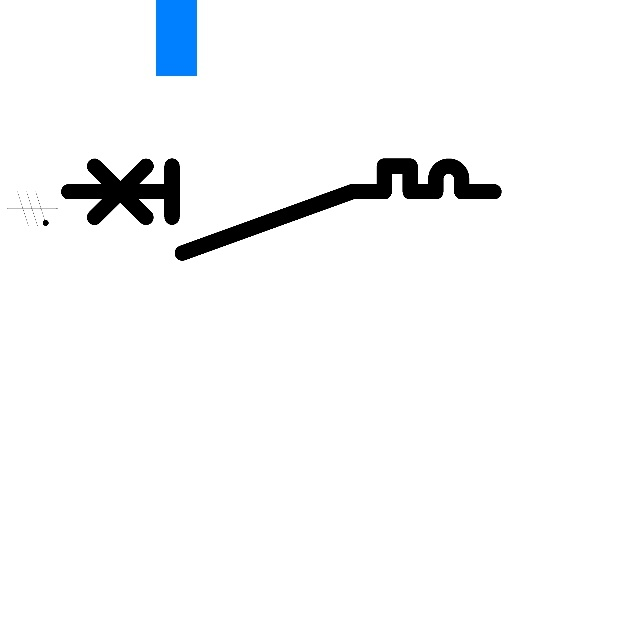interruptor_termomagnetico: (57, 155, 504, 264)
